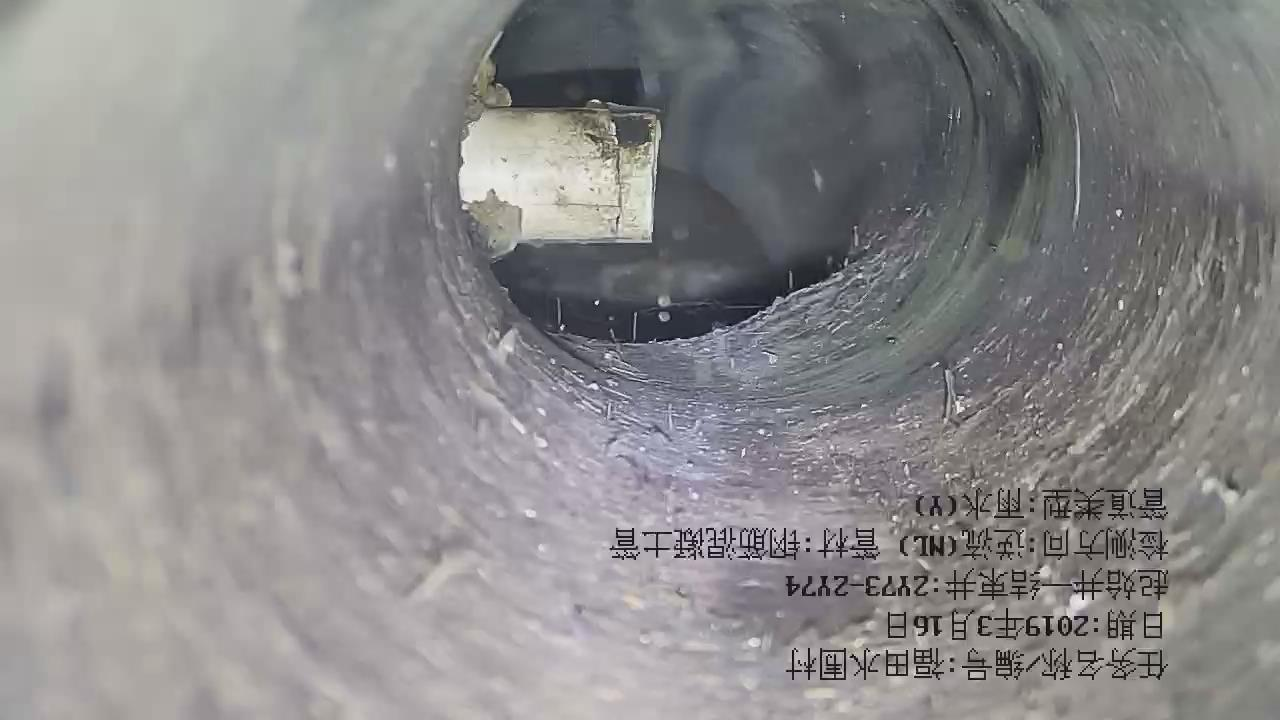ZGAJ: (460, 97, 661, 258)
